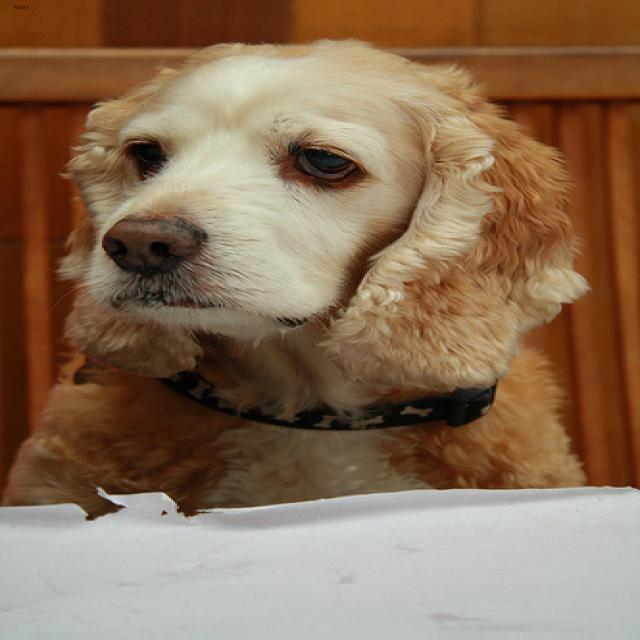dog-english_cocker_spaniel: (2, 27, 609, 529)
